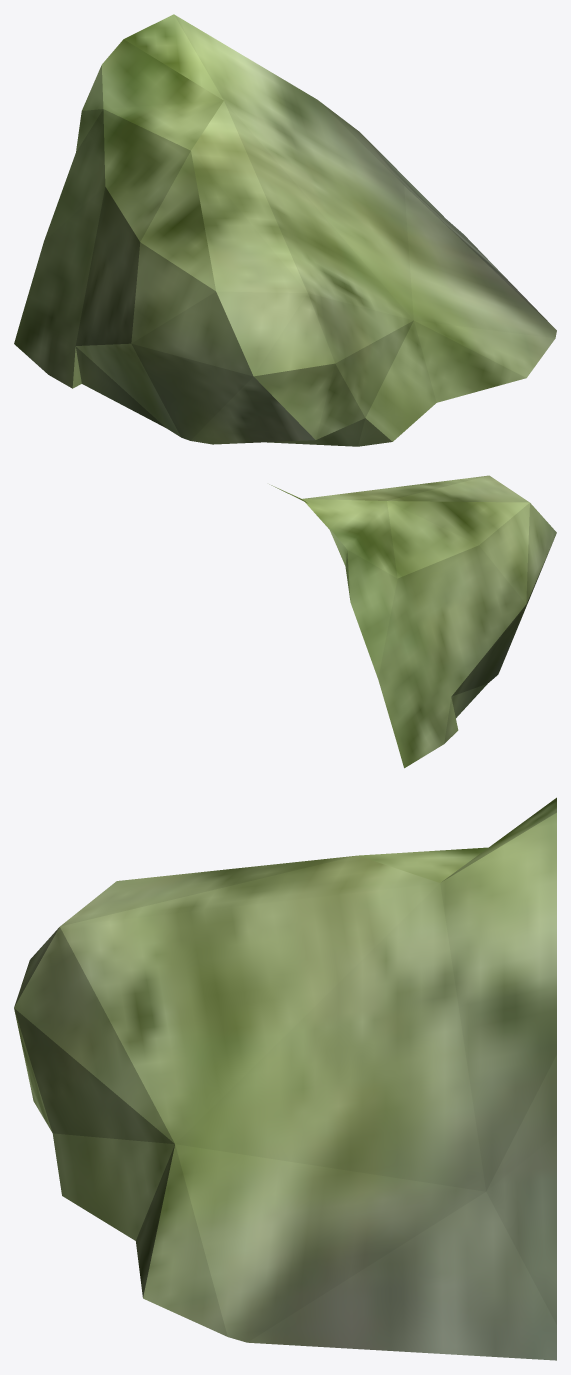
3 views of the same model, one above another, from view 1: azimuth 30°, elevation 25°; view 2: azimuth 150°, elevation 25°; view 3: azimuth 270°, elevation 25° (orthographic). The views are drawn at different scales.
Bounding box in the file's own units: 0.5749 × 0.3462 × 0.462.
Materials: 1 (1 with a texture image).
